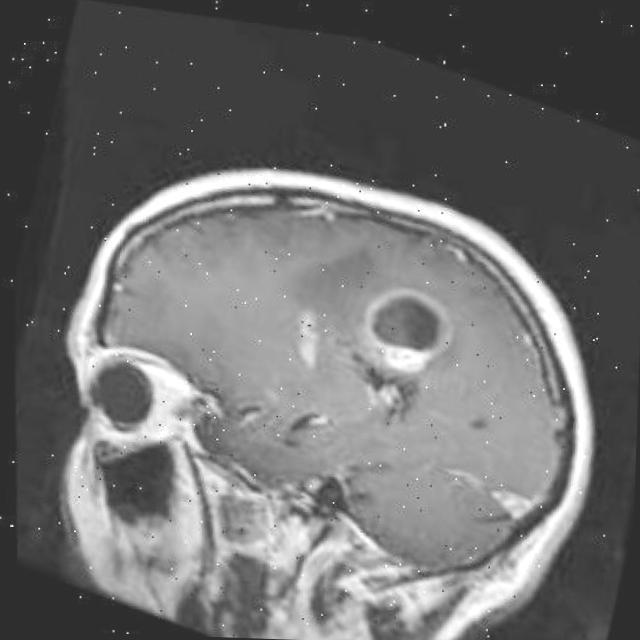CN: (252, 230, 385, 430)
